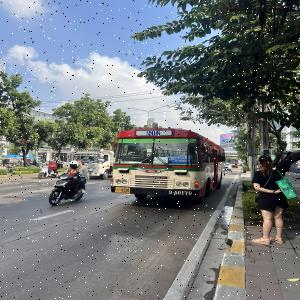BMTA-bus: (110, 127, 225, 203), (227, 159, 239, 168)
Bus Line Number: (144, 130, 164, 136)
Bus Side Number: (168, 190, 193, 197)
Destination Sign: (168, 155, 191, 164)
